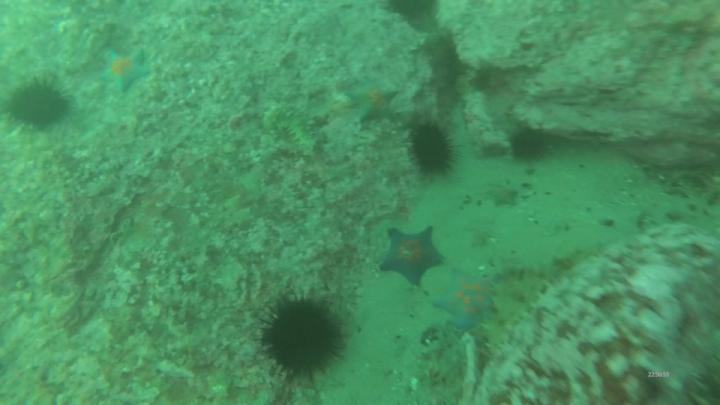echinus: (254, 288, 352, 386), (1, 73, 79, 135), (409, 119, 461, 179), (507, 132, 552, 162), (384, 1, 441, 23)
holothurian: (484, 269, 555, 341), (259, 101, 328, 159), (416, 339, 476, 405)
starfish: (378, 222, 449, 290), (433, 272, 502, 334), (344, 79, 403, 129), (95, 49, 154, 98), (485, 183, 522, 209)
